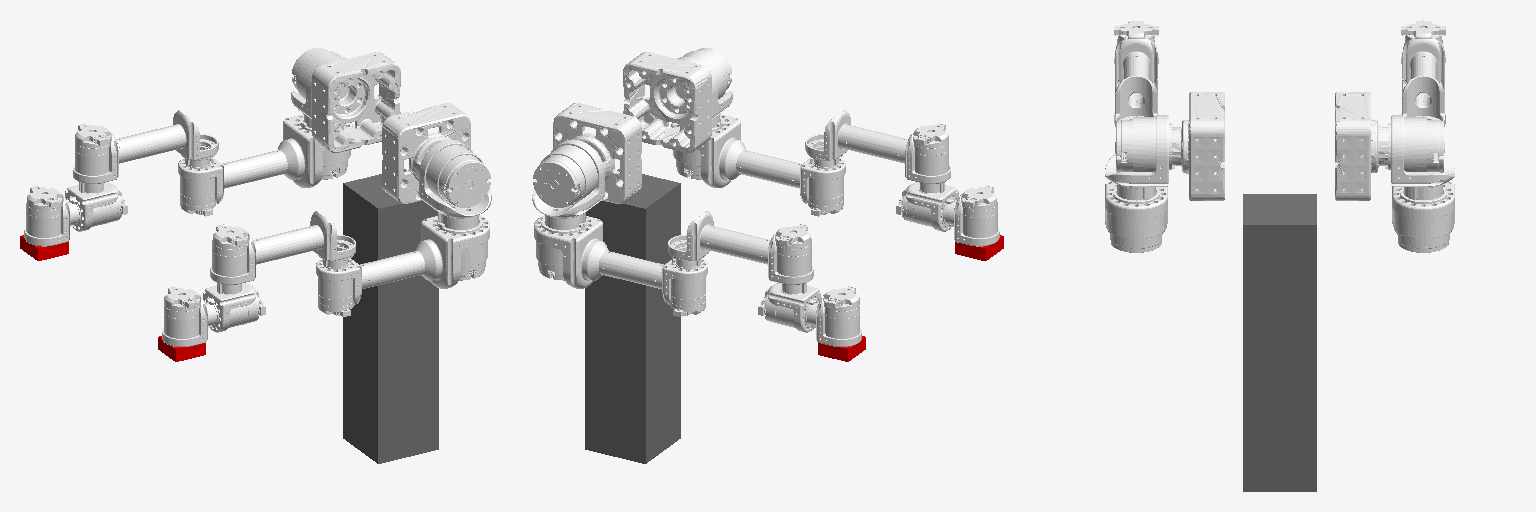
--- Facts derived from the render (not from the file) ---
3 views of the same robot in one strip: view 1: azimuth 30°, elevation 25°; view 2: azimuth 150°, elevation 25°; view 3: azimuth 270°, elevation 25° (orthographic).
Robot: dual_arm_gazebo2 — 22 links, 21 joints (12 revolute, 1 continuous, 8 fixed); root link world; default pose: all joints at 0.
Visible links, largest first — view 1: basement, left_base_link, right_2_Link, left_2_Link, right_base_link, right_1_Link, left_3_Link, right_3_Link, right_4_Link, left_4_Link, right_6_Link, left_6_Link (+5 smaller); view 2: basement, right_base_link, left_2_Link, right_2_Link, left_base_link, left_1_Link, right_3_Link, left_3_Link, left_4_Link, right_4_Link, left_6_Link, right_6_Link (+5 smaller); view 3: basement, left_base_link, right_base_link, right_1_Link, left_1_Link, left_2_Link, right_2_Link, left_3_Link, right_3_Link, left_4_Link, right_4_Link.
Boxes of the visible links, bbox=[...] form: basement: bbox=[343, 169, 438, 463]; left_base_link: bbox=[312, 52, 400, 152]; right_2_Link: bbox=[316, 215, 489, 304]; left_2_Link: bbox=[178, 114, 352, 203]; right_base_link: bbox=[382, 103, 470, 203]; right_1_Link: bbox=[419, 140, 491, 229]; left_3_Link: bbox=[73, 110, 218, 216]; right_3_Link: bbox=[210, 211, 355, 316]; right_4_Link: bbox=[203, 224, 255, 332]; left_4_Link: bbox=[65, 123, 118, 231]; right_6_Link: bbox=[164, 286, 199, 338]; left_6_Link: bbox=[26, 185, 62, 237]; basement: bbox=[585, 169, 680, 463]; right_base_link: bbox=[623, 52, 711, 152]; left_2_Link: bbox=[534, 215, 707, 304]; right_2_Link: bbox=[671, 114, 845, 203]; left_base_link: bbox=[553, 103, 641, 203]; left_1_Link: bbox=[532, 139, 604, 229]; right_3_Link: bbox=[805, 110, 950, 216]; left_3_Link: bbox=[668, 211, 813, 316]; left_4_Link: bbox=[768, 224, 820, 332]; right_4_Link: bbox=[905, 123, 958, 231]; left_6_Link: bbox=[824, 286, 859, 338]; right_6_Link: bbox=[961, 185, 997, 237]; basement: bbox=[1243, 194, 1316, 491]; left_base_link: bbox=[1335, 92, 1387, 200]; right_base_link: bbox=[1172, 92, 1224, 200]; right_1_Link: bbox=[1105, 115, 1174, 200]; left_1_Link: bbox=[1385, 115, 1454, 199]; left_2_Link: bbox=[1392, 142, 1454, 252]; right_2_Link: bbox=[1105, 142, 1167, 252]; left_3_Link: bbox=[1402, 39, 1444, 126]; right_3_Link: bbox=[1115, 39, 1157, 126]; left_4_Link: bbox=[1401, 20, 1445, 93]; right_4_Link: bbox=[1114, 21, 1158, 93].
Bounding box of the posed robot: 0.5444 × 0.4771 × 0.555 m (x, y, z).
Meshes: 8 distinct files referenced, 14 mesh visuals loaded (7 binary STL); not drawn: 1 (reference not matched to a file when rendering).

The robot description file, URDF, robot "dual_arm_gazebo2":
<?xml version="1.0" ?>
<!-- =================================================================================== -->
<!-- |    This document was autogenerated by xacro from dual_arm.xacro                 | -->
<!-- |    EDITING THIS FILE BY HAND IS NOT RECOMMENDED                                 | -->
<!-- =================================================================================== -->
<robot name="dual_arm_gazebo2">
  <!--Constant define-->
  <!--base define-->


  <link name="world"/>
  <joint name="fixed" type="fixed">
  <origin rpy="0 0 0" xyz="0 0 0.4"/>
    <parent link="world"/>
    <child link="dummy"/>
  </joint>


  <link name="dummy">
    </link>
  
  <link name="basement">
<visual>
  <origin xyz="0 0 0"/>
  <geometry>
    <box size="0.1 0.1 0.4"/>
  </geometry>
  <material name="grey">
    <color rgba="0.5 0.5 0.5 1"/>
  </material>
</visual>
<collision>
  <origin xyz="0 0 0"/>
  <geometry>
    <box size="0.1 0.1 0.4"/>
  </geometry>
</collision>
<!-- 添加物理属性 -->
<inertial>
      <origin rpy="0 0 0" xyz="1.3843E-15 1.0159E-16 0.052813"/>
      <mass value="10"/>
      <inertia ixx="0.0062111" ixy="-2.1701E-18" ixz="-3.8041E-17" iyy="0.019573" iyz="2.4964E-18" izz="0.018603"/>
    </inertial>
  </link>  

  <joint name="dummy_basement_joint" type="fixed">
    <origin rpy="0 0 0" xyz="0 0 -0.2"/>
    <parent link="dummy"/>
    <child link="basement"/>
  </joint>

  <joint name="dummy_center_joint" type="fixed">
    <origin rpy="0 0 0" xyz="0 0 0"/>
    <parent link="dummy"/>
    <child link="cloud_platform"/>
  </joint>
  <link name="cloud_platform">
  <inertial>
      <origin rpy="0 0 0" xyz="1.3843E-15 1.0159E-16 0.052813"/>
      <mass value="0.001"/>
      <inertia ixx="0.0062111" ixy="-2.1701E-18" ixz="-3.8041E-17" iyy="0.019573" iyz="2.4964E-18" izz="0.018603"/>
    </inertial>
    </link>

  <joint name="cloud_platform_joint" type="continuous">
    <origin rpy="0 0 -1.570795" xyz="0 0 0"/>
    <parent link="cloud_platform"/>
    <child link="base_link"/>
    <axis xyz="0 0 1"/>
    <!--limit effort="60" lower="-3.14159" upper="4.14159" velocity="3.14"/-->
  </joint>

  <link name="base_link">
    <inertial>
      <origin rpy="0 0 0" xyz="1.3843E-15 1.0159E-16 0.052813"/>
      <mass value="1.088"/>
      <inertia ixx="0.0062111" ixy="-2.1701E-18" ixz="-3.8041E-17" iyy="0.019573" iyz="2.4964E-18" izz="0.018603"/>
    </inertial>
    <visual>
      <origin rpy="0 0 0" xyz="0 0 0"/>
      <geometry>
        <mesh filename="package://gluon/meshes/center_link.stl"/>
      </geometry>
      <material name="">
        <color rgba="1 1 1 1"/>
      </material>
    </visual>
    <collision>
      <origin rpy="0 0 0" xyz="0 0 0"/>
      <geometry>
        <mesh filename="package://gluon/meshes/center_link.stl"/>
      </geometry>
    </collision>
  </link>
  <link name="kinect2_link">
    </link>
  <joint name="camera_center_joint" type="fixed">
    <origin rpy="3.132523668443418 -0.08587519624949608 1.574670554067391" xyz="1.726742473702382041e-02 -4.821492818581604722e-01 7.785277826224238362e-01"/>
    <parent link="dummy"/>
    <child link="kinect2_link"/>
  </joint>
  <joint name="left_base_joint" type="fixed">
    <origin rpy="-1.570795 0 1.570795" xyz="-0.075 0 0.095"/>
    <parent link="base_link"/>
    <child link="left_base_link"/>
  </joint>
  <link name="left_base_link">
    <inertial>
      <origin rpy="0 0 0" xyz="-7.07923322916521E-05 -3.15078560279351E-07 0.00211490550882476"/>
      <mass value="0.947876033180305"/>
      <inertia ixx="0.0017318413107461" ixy="3.14952850900379E-10" ixz="2.06131736991631E-06" iyy="0.00151929091543902" iyz="-2.03157503363577E-07" izz="0.00288656909579778"/>
    </inertial>
    <visual>
      <origin rpy="0 0 0" xyz="0 0 0"/>
      <geometry>
        <mesh filename="package://gluon/meshes/base_link.STL"/>
      </geometry>
      <material name="">
        <color rgba="1 1 1 1"/>
      </material>
    </visual>
    <collision>
      <origin rpy="0 0 0" xyz="0 0 0"/>
      <geometry>
        <mesh filename="package://gluon/meshes/base_link.STL"/>
      </geometry>
    </collision>
  </link>
  <link name="left_1_Link">
    <inertial>
      <origin rpy="0 0 0" xyz="0.0136179271893209 7.04702633335797E-07 -0.00891671768932772"/>
      <mass value="0.427787775289708"/>
      <inertia ixx="0.000328336335162208" ixy="1.39942675254359E-08" ixz="-4.96624559527467E-05" iyy="0.000349499347099752" iyz="7.16862445800443E-09" izz="0.000398779291439988"/>
    </inertial>
    <visual>
      <origin rpy="0 0 0" xyz="0 0 0"/>
      <geometry>
        <mesh filename="package://gluon/meshes/1_Link.STL"/>
      </geometry>
      <material name="">
        <color rgba="1 1 1 1"/>
      </material>
    </visual>
    <collision>
      <origin rpy="0 0 0" xyz="0 0 0"/>
      <geometry>
        <mesh filename="package://gluon/meshes/1_Link.STL"/>
      </geometry>
    </collision>
  </link>
  <joint name="left_axis_joint_1" type="revolute">
    <origin rpy="0 0 1.5708" xyz="0 -1.7907E-05 0.1205"/>
    <parent link="left_base_link"/>
    <child link="left_1_Link"/>
    <axis xyz="0 0 -1"/>
    <limit effort="60" lower="-2.4" upper="2.4" velocity="3.14"/>
  </joint>
  <link name="left_2_Link">
    <inertial>
      <origin rpy="0 0 0" xyz="0.0282477009101944 4.3906549022065E-07 -0.00996354944497273"/>
      <mass value="0.474122227914849"/>
      <inertia ixx="0.000348140976643854" ixy="6.62975404584032E-09" ixz="-3.65184694791613E-05" iyy="0.000363227053478232" iyz="-1.49821649022608E-08" izz="0.00041732509280613"/>
    </inertial>
    <visual>
      <origin rpy="0 0 0" xyz="0 0 0"/>
      <geometry>
        <mesh filename="package://gluon/meshes/2_Link.STL"/>
      </geometry>
      <material name="">
        <color rgba="1 1 1 1"/>
      </material>
    </visual>
    <collision>
      <origin rpy="0 0 0" xyz="0 0 0"/>
      <geometry>
        <mesh filename="package://gluon/meshes/2_Link.STL"/>
      </geometry>
    </collision>
  </link>
  <joint name="left_axis_joint_2" type="revolute">
    <origin rpy="-1.5708 3.1416 -1.5708" xyz="0.1165 0 0"/>
    <parent link="left_1_Link"/>
    <child link="left_2_Link"/>
    <axis xyz="0 0 -1"/>
    <limit effort="60" lower="-2.4" upper="0.1" velocity="3.14"/>
  </joint>
  <link name="left_3_Link">
    <inertial>
      <origin rpy="0 0 0" xyz="0.0550000657149 1.02706571201196E-05 -0.0873823729588203"/>
      <mass value="0.150735858555544"/>
      <inertia ixx="6.48442797417871E-05" ixy="-7.37989542660507E-09" ixz="-1.63575029334465E-07" iyy="7.51775686938988E-05" iyz="-6.30391436593442E-09" izz="8.14430313397472E-05"/>
    </inertial>
    <visual>
      <origin rpy="0 0 0" xyz="0 0 0"/>
      <geometry>
        <mesh filename="package://gluon/meshes/3_Link.STL"/>
      </geometry>
      <material name="">
        <color rgba="1 1 1 1"/>
      </material>
    </visual>
    <collision>
      <origin rpy="0 0 0" xyz="0 0 0"/>
      <geometry>
        <mesh filename="package://gluon/meshes/3_Link.STL"/>
      </geometry>
    </collision>
  </link>
  <joint name="left_axis_joint_3" type="revolute">
    <origin rpy="-0.00039303 0 0" xyz="0.20352 2.2698E-05 0.03825"/>
    <parent link="left_2_Link"/>
    <child link="left_3_Link"/>
    <axis xyz="0 0 1"/>
    <limit effort="30" lower="-2.4" upper="2.4" velocity="3.14"/>
  </joint>
  <link name="left_4_Link">
    <inertial>
      <origin rpy="0 0 0" xyz="0.00316829014378384 -2.51807207740376E-05 -0.065762603358388"/>
      <mass value="0.0868240169253312"/>
      <inertia ixx="3.69273389374954E-05" ixy="-7.74427846366249E-09" ixz="6.58227930408113E-06" iyy="3.88095070665613E-05" iyz="-3.86379121232784E-09" izz="4.25312703267998E-05"/>
    </inertial>
    <visual>
      <origin rpy="0 0 0" xyz="0 0 0"/>
      <geometry>
        <mesh filename="package://gluon/meshes/4_Link.STL"/>
      </geometry>
      <material name="">
        <color rgba="1 1 1 1"/>
      </material>
    </visual>
    <collision>
      <origin rpy="0 0 0" xyz="0 0 0"/>
      <geometry>
        <mesh filename="package://gluon/meshes/4_Link.STL"/>
      </geometry>
    </collision>
  </link>
  <joint name="left_axis_joint_4" type="revolute">
    <origin rpy="-3.1412 0 0" xyz="0.173 1.58E-05 -0.1557"/>
    <parent link="left_3_Link"/>
    <child link="left_4_Link"/>
    <axis xyz="0 0 1"/>
    <limit effort="30" lower="-2.4" upper="2.4" velocity="3.14"/>
  </joint>
  <link name="left_5_Link">
    <inertial>
      <origin rpy="0 0 0" xyz="0.00301334222958494 2.51282272504116E-05 -0.0271578777359305"/>
      <mass value="0.0861219565127689"/>
      <inertia ixx="3.66130359688528E-05" ixy="-7.69517877575345E-09" ixz="6.39794733105846E-06" iyy="3.815099630915E-05" iyz="3.73716337127711E-09" izz="4.20198733154724E-05"/>
    </inertial>
    <visual>
      <origin rpy="0 0 0" xyz="0 0 0"/>
      <geometry>
        <mesh filename="package://gluon/meshes/5_Link.STL"/>
      </geometry>
      <material name="">
        <color rgba="1 1 1 1"/>
      </material>
    </visual>
    <collision>
      <origin rpy="0 0 0" xyz="0 0 0"/>
      <geometry>
        <mesh filename="package://gluon/meshes/5_Link.STL"/>
      </geometry>
    </collision>
  </link>
  <joint name="left_axis_joint_5" type="revolute">
    <origin rpy="3.1416 1.5708 0" xyz="0 0 -0.11743"/>
    <parent link="left_4_Link"/>
    <child link="left_5_Link"/>
    <axis xyz="0 0 1"/>
    <limit effort="30" lower="-2.4" upper="2.4" velocity="3.14"/>
  </joint>
  <link name="left_6_Link">
    <inertial>
      <origin rpy="0 0 0" xyz="2.43062335152366E-05 1.80532182430252E-05 0.0293761927296333"/>
      <mass value="0.0341435122227797"/>
      <inertia ixx="9.69578526103206E-06" ixy="-7.64383826654747E-09" ixz="-3.2515655925902E-09" iyy="1.02214035330215E-05" iyz="6.36682596346152E-09" izz="1.67442220589365E-05"/>
    </inertial>
    <visual>
      <origin rpy="0 0 0" xyz="0 0 0"/>
      <geometry>
        <mesh filename="package://gluon/meshes/6_Link.STL"/>
      </geometry>
      <material name="">
        <color rgba="1 1 1 1"/>
      </material>
    </visual>
    <collision>
      <origin rpy="0 0 0" xyz="0 0 0"/>
      <geometry>
        <mesh filename="package://gluon/meshes/6_Link.STL"/>
      </geometry>
    </collision>
  </link>
  <joint name="left_axis_joint_6" type="revolute">
    <origin rpy="3.1412 1.5708 0" xyz="0.019524 2.2696E-05 -0.079176"/>
    <parent link="left_5_Link"/>
    <child link="left_6_Link"/>
    <axis xyz="0 0 1"/>
    <limit effort="30" lower="-2.4" upper="2.4" velocity="3.14"/>
  </joint>

  <joint name="left6_imu_joint" type="fixed">
    <origin rpy="0 0 0" xyz="0 0 -0.02"/>
    <parent link="left_6_Link"/>
    <child link="left_imu"/>
  </joint>

    <link name="left_imu">
        <visual>
            <origin rpy="0 0 0" xyz="0 0 0" />
            <geometry>
                    <box size="0.05 0.05 0.02"/>
            </geometry>                
            <material name= "red" >
              <color rgba="1.0 0.0 0.0 1.0" />
            </material>
        </visual>
        <collision>
            <geometry>
                <box size="0.05 0.05 0.02" />
            </geometry>
            <origin xyz="0.0 0.0 0" rpy="0.0 0.0 0.0" />
        </collision>
        <inertial>
      <origin rpy="0 0 0" xyz="1.3843E-15 1.0159E-16 0"/>
      <mass value="0.001"/>
      <inertia ixx="0.0062111" ixy="-2.1701E-18" ixz="-3.8041E-17" iyy="0.019573" iyz="2.4964E-18" izz="0.018603"/>
    </inertial>
        
    </link>

    <gazebo reference="left_imu">
        <material>Gazebo/Red</material>
    </gazebo>

    <gazebo reference="left_imu">
    <gravity>true</gravity>
    <sensor name="left_imu_sensor" type="imu">
      <always_on>true</always_on>
      <update_rate>50</update_rate>
      <visualize>true</visualize>
      <topic>__default_topic__</topic>
      <plugin filename="libgazebo_ros_imu_sensor.so" name="imu_plugin">
        <topicName>gluon/left_imu</topicName>
        <bodyName>left_imu</bodyName>
        <updateRateHZ>50.0</updateRateHZ>
        <gaussianNoise>0.0</gaussianNoise>
        <xyzOffset>0 0 0</xyzOffset>
        <rpyOffset>0 0 0</rpyOffset>
        <frameName>left_imu</frameName>
      </plugin>
      <pose>0 0 0 0 0 0</pose>
    </sensor>
  </gazebo>




  <!--gazebo reference="left_base_link">
    <material>Gazebo/White</material>
  </gazebo>
  <gazebo reference="left_1_Link">
    <material>Gazebo/White</material>
    <selfCollide>true</selfCollide>
  </gazebo>
  <gazebo reference="left_2_Link">
    <material>Gazebo/White</material>
    <selfCollide>true</selfCollide>
  </gazebo>
  <gazebo reference="left_3_Link">
    <material>Gazebo/White</material>
    <selfCollide>true</selfCollide>
  </gazebo>
  <gazebo reference="left_4_Link">
    <material>Gazebo/White</material>
    <selfCollide>true</selfCollide>
  </gazebo>
  <gazebo reference="left_5_Link">
    <material>Gazebo/White</material>
    <selfCollide>true</selfCollide>
  </gazebo>
  <gazebo reference="left_6_Link">
    <material>Gazebo/White</material>
    <selfCollide>true</selfCollide>
  </gazebo-->
  <transmission name="left_axis_joint_1_trans">
    <type>transmission_interface/SimpleTransmission</type>
    <joint name="left_axis_joint_1">
      <hardwareInterface>hardware_interface/EffortJointInterface</hardwareInterface>
    </joint>
    <actuator name="left_axis_joint_1_motor">
      <hardwareInterface>hardware_interface/EffortJointInterface</hardwareInterface>
      <mechanicalReduction>1</mechanicalReduction>
    </actuator>
  </transmission>
  <transmission name="left_axis_joint_2_trans">
    <type>transmission_interface/SimpleTransmission</type>
    <joint name="left_axis_joint_2">
      <hardwareInterface>hardware_interface/EffortJointInterface</hardwareInterface>
    </joint>
    <actuator name="left_axis_joint_2_motor">
      <hardwareInterface>hardware_interface/EffortJointInterface</hardwareInterface>
      <mechanicalReduction>1</mechanicalReduction>
    </actuator>
  </transmission>
  <transmission name="left_axis_joint_3_trans">
    <type>transmission_interface/SimpleTransmission</type>
    <joint name="left_axis_joint_3">
      <hardwareInterface>hardware_interface/EffortJointInterface</hardwareInterface>
    </joint>
    <actuator name="left_axis_joint_3_motor">
      <hardwareInterface>hardware_interface/EffortJointInterface</hardwareInterface>
      <mechanicalReduction>1</mechanicalReduction>
    </actuator>
  </transmission>
  <transmission name="left_axis_joint_4_trans">
    <type>transmission_interface/SimpleTransmission</type>
    <joint name="left_axis_joint_4">
      <hardwareInterface>hardware_interface/EffortJointInterface</hardwareInterface>
    </joint>
    <actuator name="left_axis_joint_4_motor">
      <hardwareInterface>hardware_interface/EffortJointInterface</hardwareInterface>
      <mechanicalReduction>1</mechanicalReduction>
    </actuator>
  </transmission>
  <transmission name="left_axis_joint_5_trans">
    <type>transmission_interface/SimpleTransmission</type>
    <joint name="left_axis_joint_5">
      <hardwareInterface>hardware_interface/EffortJointInterface</hardwareInterface>
    </joint>
    <actuator name="left_axis_joint_5_motor">
      <hardwareInterface>hardware_interface/EffortJointInterface</hardwareInterface>
      <mechanicalReduction>1</mechanicalReduction>
    </actuator>
  </transmission>
  <transmission name="left_axis_joint_6_trans">
    <type>transmission_interface/SimpleTransmission</type>
    <joint name="left_axis_joint_6">
      <hardwareInterface>hardware_interface/EffortJointInterface</hardwareInterface>
    </joint>
    <actuator name="left_axis_joint_6_motor">
      <hardwareInterface>hardware_interface/EffortJointInterface</hardwareInterface>
      <mechanicalReduction>1</mechanicalReduction>
    </actuator>
  </transmission>



  <joint name="right_base_joint" type="fixed">
    <origin rpy="1.570795 0 1.570795" xyz="0.075 0 0.095"/>
    <parent link="base_link"/>
    <child link="right_base_link"/>
  </joint>
  <link name="right_base_link">
    <inertial>
      <origin rpy="0 0 0" xyz="-7.07923322916521E-05 -3.15078560279351E-07 0.00211490550882476"/>
      <mass value="0.947876033180305"/>
      <inertia ixx="0.0017318413107461" ixy="3.14952850900379E-10" ixz="2.06131736991631E-06" iyy="0.00151929091543902" iyz="-2.03157503363577E-07" izz="0.00288656909579778"/>
    </inertial>
    <visual>
      <origin rpy="0 0 0" xyz="0 0 0"/>
      <geometry>
        <mesh filename="package://gluon/meshes/base_link.STL"/>
      </geometry>
      <material name="">
        <color rgba="1 1 1 1"/>
      </material>
    </visual>
    <collision>
      <origin rpy="0 0 0" xyz="0 0 0"/>
      <geometry>
        <mesh filename="package://gluon/meshes/base_link.STL"/>
      </geometry>
    </collision>
  </link>
  <link name="right_1_Link">
    <inertial>
      <origin rpy="0 0 0" xyz="0.0136179271893209 7.04702633335797E-07 -0.00891671768932772"/>
      <mass value="0.427787775289708"/>
      <inertia ixx="0.000328336335162208" ixy="1.39942675254359E-08" ixz="-4.96624559527467E-05" iyy="0.000349499347099752" iyz="7.16862445800443E-09" izz="0.000398779291439988"/>
    </inertial>
    <visual>
      <origin rpy="0 0 0" xyz="0 0 0"/>
      <geometry>
        <mesh filename="package://gluon/meshes/1_Link.STL"/>
      </geometry>
      <material name="">
        <color rgba="1 1 1 1"/>
      </material>
    </visual>
    <collision>
      <origin rpy="0 0 0" xyz="0 0 0"/>
      <geometry>
        <mesh filename="package://gluon/meshes/1_Link.STL"/>
      </geometry>
    </collision>
  </link>
  <joint name="right_axis_joint_1" type="revolute">
    <origin rpy="0 0 -1.5708" xyz="0 -1.7907E-05 0.1205"/>
    <parent link="right_base_link"/>
    <child link="right_1_Link"/>
    <axis xyz="0 0 -1"/>
    <limit effort="60" lower="-2.4" upper="2.4" velocity="3.14"/>
  </joint>
  <link name="right_2_Link">
    <inertial>
      <origin rpy="0 0 0" xyz="0.0282477009101944 4.3906549022065E-07 -0.00996354944497273"/>
      <mass value="0.474122227914849"/>
      <inertia ixx="0.000348140976643854" ixy="6.62975404584032E-09" ixz="-3.65184694791613E-05" iyy="0.000363227053478232" iyz="-1.49821649022608E-08" izz="0.00041732509280613"/>
    </inertial>
    <visual>
      <origin rpy="0 0 0" xyz="0 0 0"/>
      <geometry>
        <mesh filename="package://gluon/meshes/2_Link.STL"/>
      </geometry>
      <material name="">
        <color rgba="1 1 1 1"/>
      </material>
    </visual>
    <collision>
      <origin rpy="0 0 0" xyz="0 0 0"/>
      <geometry>
        <mesh filename="package://gluon/meshes/2_Link.STL"/>
      </geometry>
    </collision>
  </link>
  <joint name="right_axis_joint_2" type="revolute">
    <origin rpy="-1.5708 0 -1.5708" xyz="0.1165 0 0"/>
    <parent link="right_1_Link"/>
    <child link="right_2_Link"/>
    <axis xyz="0 0 -1"/>
    <limit effort="60" lower="-0.1" upper="1.54" velocity="3.14"/>
  </joint>
  <link name="right_3_Link">
    <inertial>
      <origin rpy="0 0 0" xyz="0.0550000657149 1.02706571201196E-05 -0.0873823729588203"/>
      <mass value="0.150735858555544"/>
      <inertia ixx="6.48442797417871E-05" ixy="-7.37989542660507E-09" ixz="-1.63575029334465E-07" iyy="7.51775686938988E-05" iyz="-6.30391436593442E-09" izz="8.14430313397472E-05"/>
    </inertial>
    <visual>
      <origin rpy="0 0 0" xyz="0 0 0"/>
      <geometry>
        <mesh filename="package://gluon/meshes/3_Link.STL"/>
      </geometry>
      <material name="">
        <color rgba="1 1 1 1"/>
      </material>
    </visual>
    <collision>
      <origin rpy="0 0 0" xyz="0 0 0"/>
      <geometry>
        <mesh filename="package://gluon/meshes/3_Link.STL"/>
      </geometry>
    </collision>
  </link>
  <joint name="right_axis_joint_3" type="revolute">
    <origin rpy="-0.00039303 0 0" xyz="0.20352 2.2698E-05 0.03825"/>
    <parent link="right_2_Link"/>
    <child link="right_3_Link"/>
    <axis xyz="0 0 1"/>
    <limit effort="30" lower="-2.4" upper="2.4" velocity="3.14"/>
  </joint>
  <link name="right_4_Link">
    <inertial>
      <origin rpy="0 0 0" xyz="0.00316829014378384 -2.51807207740376E-05 -0.065762603358388"/>
      <mass value="0.0868240169253312"/>
      <inertia ixx="3.69273389374954E-05" ixy="-7.74427846366249E-09" ixz="6.58227930408113E-06" iyy="3.88095070665613E-05" iyz="-3.86379121232784E-09" izz="4.25312703267998E-05"/>
    </inertial>
    <visual>
      <origin rpy="0 0 0" xyz="0 0 0"/>
      <geometry>
        <mesh filename="package://gluon/meshes/4_Link.STL"/>
      </geometry>
      <material name="">
        <color rgba="1 1 1 1"/>
      </material>
    </visual>
    <collision>
      <origin rpy="0 0 0" xyz="0 0 0"/>
      <geometry>
        <mesh filename="package://gluon/meshes/4_Link.STL"/>
      </geometry>
    </collision>
  </link>
  <joint name="right_axis_joint_4" type="revolute">
    <origin rpy="-3.1412 0 0" xyz="0.173 1.58E-05 -0.1557"/>
    <parent link="right_3_Link"/>
    <child link="right_4_Link"/>
    <axis xyz="0 0 1"/>
    <limit effort="30" lower="-2.4" upper="2.4" velocity="3.14"/>
  </joint>
  <link name="right_5_Link">
    <inertial>
      <origin rpy="0 0 0" xyz="0.00301334222958494 2.51282272504116E-05 -0.0271578777359305"/>
      <mass value="0.0861219565127689"/>
      <inertia ixx="3.66130359688528E-05" ixy="-7.69517877575345E-09" ixz="6.39794733105846E-06" iyy="3.815099630915E-05" iyz="3.73716337127711E-09" izz="4.20198733154724E-05"/>
    </inertial>
    <visual>
      <origin rpy="0 0 0" xyz="0 0 0"/>
      <geometry>
        <mesh filename="package://gluon/meshes/5_Link.STL"/>
      </geometry>
      <material name="">
        <color rgba="1 1 1 1"/>
      </material>
    </visual>
    <collision>
      <origin rpy="0 0 0" xyz="0 0 0"/>
      <geometry>
        <mesh filename="package://gluon/meshes/5_Link.STL"/>
      </geometry>
    </collision>
  </link>
  <joint name="right_axis_joint_5" type="revolute">
    <origin rpy="3.1416 1.5708 0" xyz="0 0 -0.11743"/>
    <parent link="right_4_Link"/>
    <child link="right_5_Link"/>
    <axis xyz="0 0 1"/>
    <limit effort="30" lower="-2.4" upper="2.4" velocity="3.14"/>
  </joint>
  <link name="right_6_Link">
    <inertial>
      <origin rpy="0 0 0" xyz="2.43062335152366E-05 1.80532182430252E-05 0.0293761927296333"/>
      <mass value="0.0341435122227797"/>
      <inertia ixx="9.69578526103206E-06" ixy="-7.64383826654747E-09" ixz="-3.2515655925902E-09" iyy="1.02214035330215E-05" iyz="6.36682596346152E-09" izz="1.67442220589365E-05"/>
    </inertial>
    <visual>
      <origin rpy="0 0 0" xyz="0 0 0"/>
      <geometry>
        <mesh filename="package://gluon/meshes/6_Link.STL"/>
      </geometry>
      <material name="">
        <color rgba="1 1 1 1"/>
      </material>
    </visual>
    <collision>
      <origin rpy="0 0 0" xyz="0 0 0"/>
      <geometry>
        <mesh filename="package://gluon/meshes/6_Link.STL"/>
      </geometry>
    </collision>
  </link>
  <joint name="right_axis_joint_6" type="revolute">
    <origin rpy="3.1412 1.5708 0" xyz="0.019524 2.2696E-05 -0.079176"/>
    <parent link="right_5_Link"/>
    <child link="right_6_Link"/>
    <axis xyz="0 0 -1"/>
    <limit effort="30" lower="-2.4" upper="2.4" velocity="3.14"/>
  </joint>


  <joint name="right6_imu_joint" type="fixed">
    <origin rpy="0 0 0" xyz="0 0 -0.02"/>
    <parent link="right_6_Link"/>
    <child link="right_imu"/>
  </joint>

    <link name="right_imu">
        <visual>
            <origin rpy="0 0 0" xyz="0 0 0" />
            <geometry>
                    <box size="0.05 0.05 0.02"/>
            </geometry>                
            <material name= "red" >
              <color rgba="1.0 0.0 0.0 1.0" />
            </material>
        </visual>
        <collision>
            <geometry>
                <box size="0.05 0.05 0.02" />
            </geometry>
            <origin xyz="0.0 0.0 0" rpy="0.0 0.0 0.0" />
        </collision>
        <inertial>
      <origin rpy="0 0 0" xyz="1.3843E-15 1.0159E-16 0"/>
      <mass value="0.001"/>
      <inertia ixx="0.0062111" ixy="-2.1701E-18" ixz="-3.8041E-17" iyy="0.019573" iyz="2.4964E-18" izz="0.018603"/>
    </inertial>
        
    </link>

    <gazebo reference="right_imu">
        <material>Gazebo/Red</material>
    </gazebo>

    <gazebo reference="right_imu">
    <gravity>true</gravity>
    <sensor name="right_imu_sensor" type="imu">
      <always_on>true</always_on>
      <update_rate>50</update_rate>
      <visualize>true</visualize>
      <topic>__default_topic__</topic>
      <plugin filename="libgazebo_ros_imu_sensor.so" name="imu_plugin">
        <topicName>gluon/right_imu</topicName>
        <bodyName>right_imu</bodyName>
        <updateRateHZ>50.0</updateRateHZ>
        <gaussianNoise>0.0</gaussianNoise>
        <xyzOffset>0 0 0</xyzOffset>
        <rpyOffset>0 0 0</rpyOffset>
        <frameName>right_imu</frameName>
      </plugin>
      <pose>0 0 0 0 0 0</pose>
    </sensor>
  </gazebo>




  <!--gazebo reference="right_base_link">
    <material>Gazebo/White</material>
  </gazebo>
  <gazebo reference="right_1_Link">
    <material>Gazebo/White</material>
    <selfCollide>true</selfCollide>
  </gazebo>
  <gazebo reference="right_2_Link">
    <material>Gazebo/White</material>
    <selfCollide>true</selfCollide>
  </gazebo>
  <gazebo reference="right_3_Link">
    <material>Gazebo/White</material>
    <selfCollide>true</selfCollide>
  </gazebo>
  <gazebo reference="right_4_Link">
    <material>Gazebo/White</material>
    <selfCollide>true</selfCollide>
  </gazebo>
  <gazebo reference="right_5_Link">
    <material>Gazebo/White</material>
    <selfCollide>true</selfCollide>
  </gazebo>
  <gazebo reference="right_6_Link">
    <material>Gazebo/White</material>
    <selfCollide>true</selfCollide>
  </gazebo-->
  <transmission name="right_axis_joint_1_trans">
    <type>transmission_interface/SimpleTransmission</type>
    <joint name="right_axis_joint_1">
      <hardwareInterface>hardware_interface/EffortJointInterface</hardwareInterface>
    </joint>
    <actuator name="right_axis_joint_1_motor">
      <hardwareInterface>hardware_interface/EffortJointInterface</hardwareInterface>
      <mechanicalReduction>1</mechanicalReduction>
    </actuator>
  </transmission>
  <transmission name="right_axis_joint_2_trans">
    <type>transmission_interface/SimpleTransmission</type>
    <joint name="right_axis_joint_2">
      <hardwareInterface>hardware_interface/EffortJointInterface</hardwareInterface>
    </joint>
    <actuator name="right_axis_joint_2_motor">
      <hardwareInterface>hardware_interface/EffortJointInterface</hardwareInterface>
      <mechanicalReduction>1</mechanicalReduction>
    </actuator>
  </transmission>
  <transmission name="right_axis_joint_3_trans">
    <type>transmission_interface/SimpleTransmission</type>
    <joint name="right_axis_joint_3">
      <hardwareInterface>hardware_interface/EffortJointInterface</hardwareInterface>
    </joint>
    <actuator name="right_axis_joint_3_motor">
      <hardwareInterface>hardware_interface/EffortJointInterface</hardwareInterface>
      <mechanicalReduction>1</mechanicalReduction>
    </actuator>
  </transmission>
  <transmission name="right_axis_joint_4_trans">
    <type>transmission_interface/SimpleTransmission</type>
    <joint name="right_axis_joint_4">
      <hardwareInterface>hardware_interface/EffortJointInterface</hardwareInterface>
    </joint>
    <actuator name="right_axis_joint_4_motor">
      <hardwareInterface>hardware_interface/EffortJointInterface</hardwareInterface>
      <mechanicalReduction>1</mechanicalReduction>
    </actuator>
  </transmission>
  <transmission name="right_axis_joint_5_trans">
    <type>transmission_interface/SimpleTransmission</type>
    <joint name="right_axis_joint_5">
      <hardwareInterface>hardware_interface/EffortJointInterface</hardwareInterface>
    </joint>
    <actuator name="right_axis_joint_5_motor">
      <hardwareInterface>hardware_interface/EffortJointInterface</hardwareInterface>
      <mechanicalReduction>1</mechanicalReduction>
    </actuator>
  </transmission>
  <transmission name="right_axis_joint_6_trans">
    <type>transmission_interface/SimpleTransmission</type>
    <joint name="right_axis_joint_6">
      <hardwareInterface>hardware_interface/EffortJointInterface</hardwareInterface>
    </joint>
    <actuator name="right_axis_joint_6_motor">
      <hardwareInterface>hardware_interface/EffortJointInterface</hardwareInterface>
      <mechanicalReduction>1</mechanicalReduction>
    </actuator>
  </transmission>


  <transmission name="cloud_platform_joint_trans">
    <type>transmission_interface/SimpleTransmission</type>
    <joint name="cloud_platform_joint">
      <hardwareInterface>hardware_interface/EffortJointInterface</hardwareInterface>
    </joint>
    <actuator name="cloud_platform_joint_motor">
      <hardwareInterface>hardware_interface/EffortJointInterface</hardwareInterface>
      <mechanicalReduction>1</mechanicalReduction>
    </actuator>
  </transmission>



  <gazebo>
    <plugin filename="libgazebo_ros_control.so" name="gazebo_ros_control">
        <robotNamespace>/gluon2</robotNamespace>
    </plugin>
  </gazebo>
</robot>
